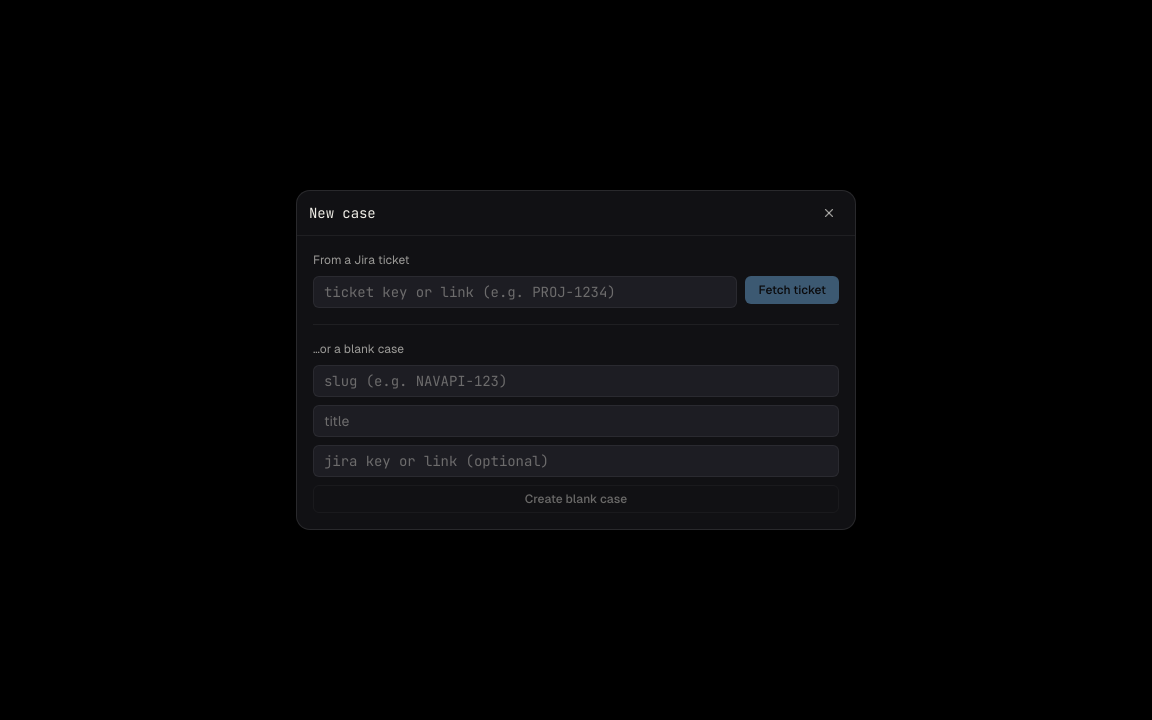
Test case: NewCaseDialog › fetches a ticket and prefills slug + title from key + summary
Type "PROJ-7" into the field with placeholder "ticket key or link (e.g. PROJ-1234)" at (525, 292), box [313,276,737,308]
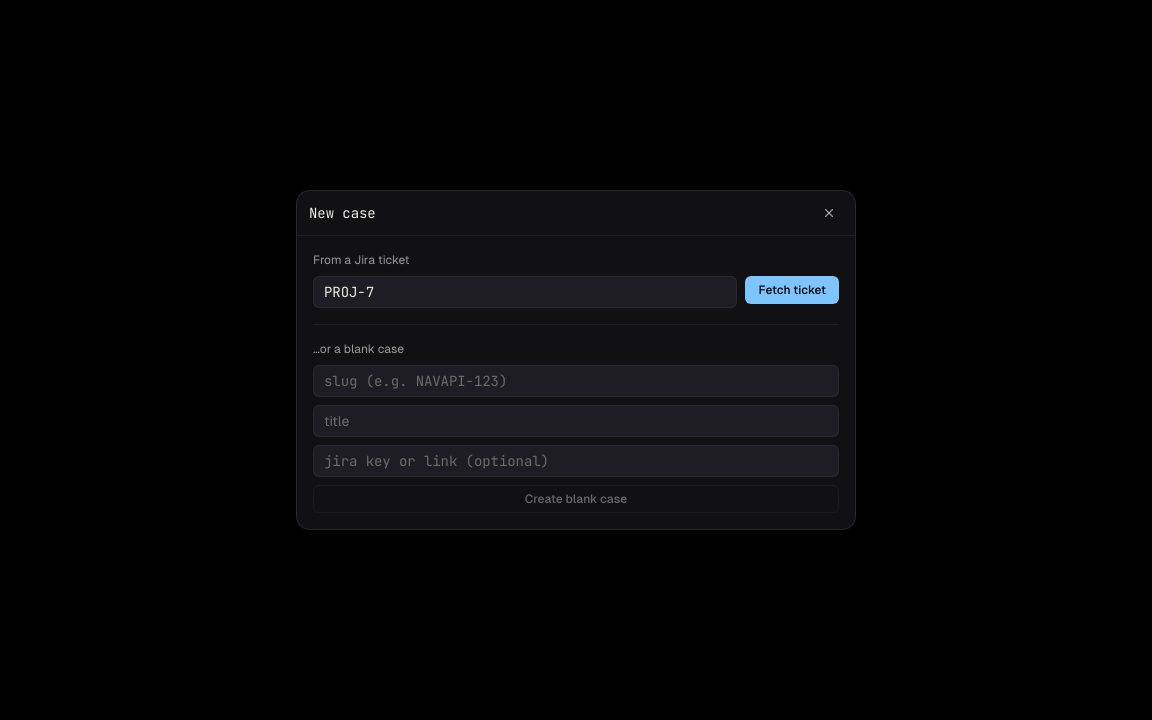
Click the button "Fetch ticket" at (792, 290), box [745,276,839,304]
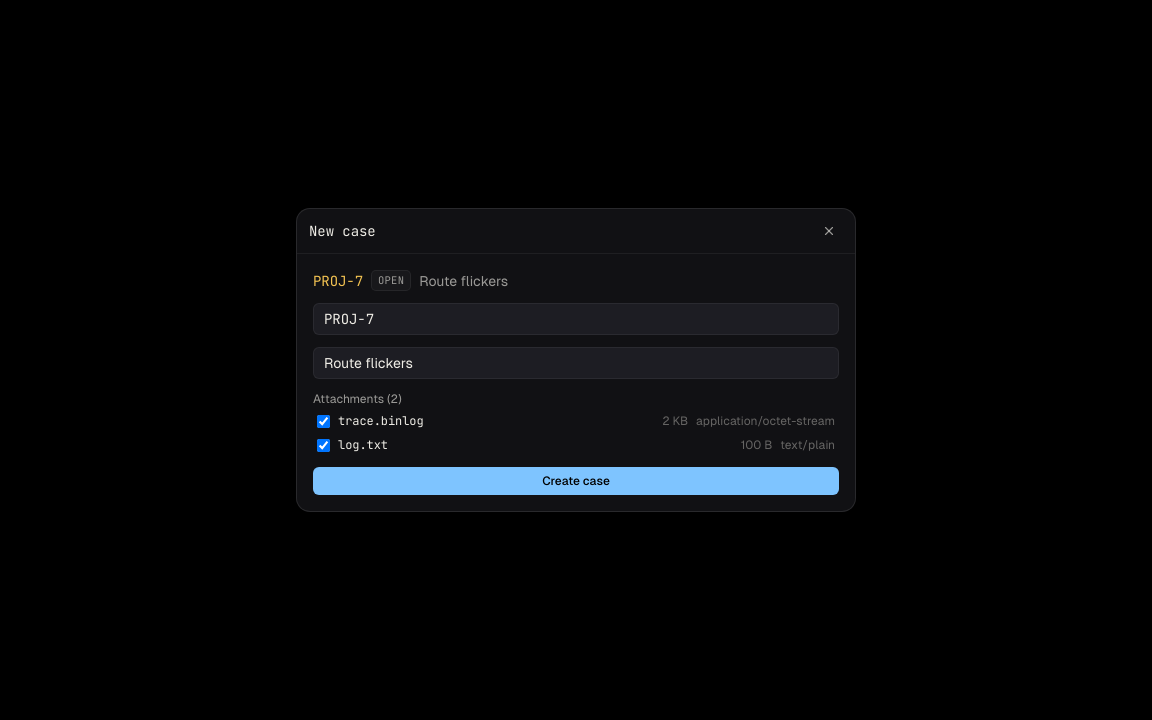
Result: the field showing "PROJ-7" is shown at [313,303,839,335]
Result: the field showing "Route flickers" is shown at [313,347,839,379]
Result: the number of checkboxes is 2 at [317,414,330,428]; [317,438,330,452]
